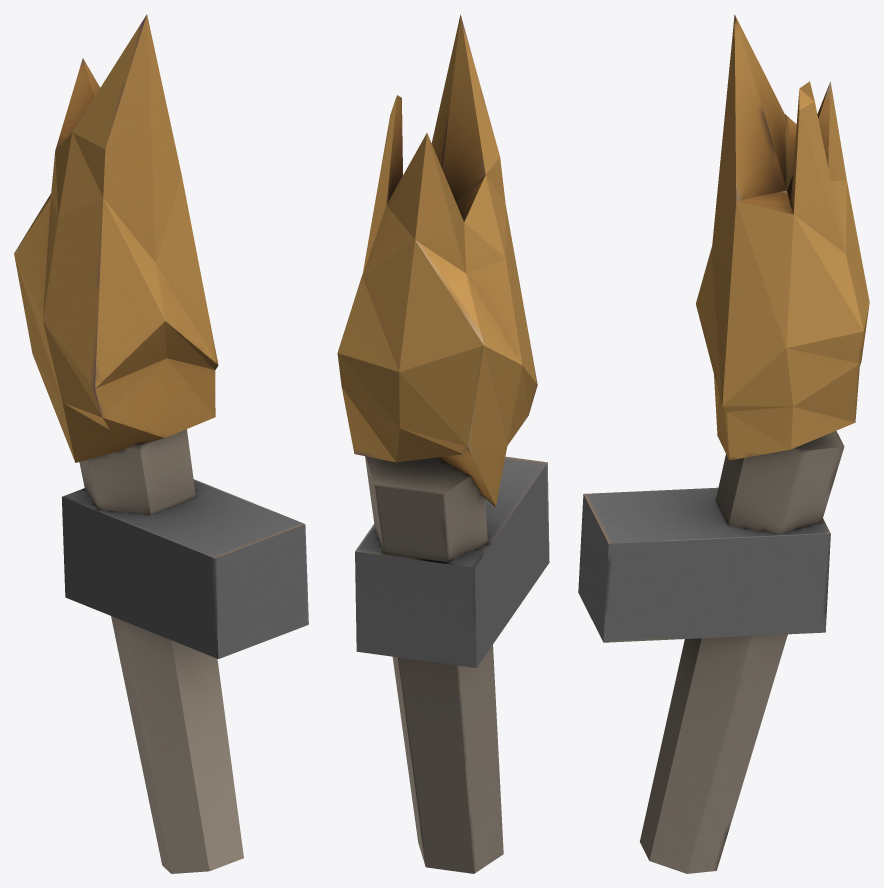
The model's file is Torch.fbx.
3 views of the same model, side by side, from view 1: azimuth 30°, elevation 25°; view 2: azimuth 150°, elevation 25°; view 3: azimuth 270°, elevation 25° (orthographic). The views are drawn at different scales.
Visible parts, largest first — view 1: Cube.152; view 2: Cube.152; view 3: Cube.152.
Boxes of the visible parts, x1,y1,x2,y2 form: Cube.152: (14, 14, 308, 873); Cube.152: (337, 14, 549, 873); Cube.152: (578, 14, 869, 873).
Size of the model in its own units: 0.1699 by 0.7676 by 0.2424.
